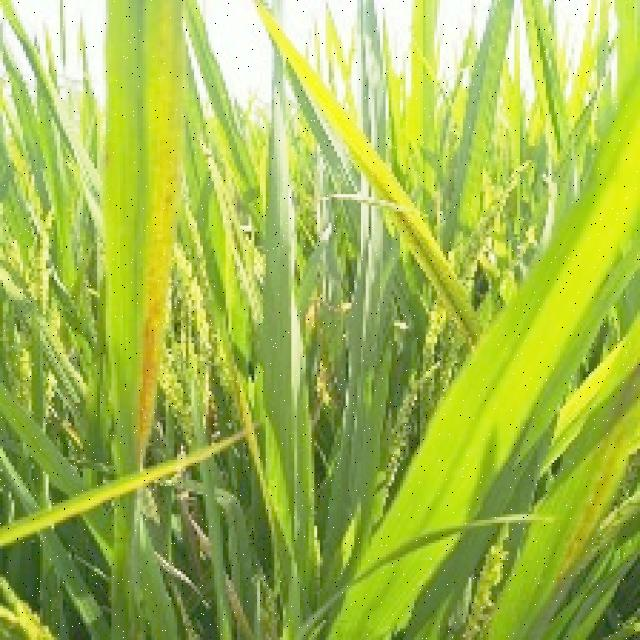-: (260, 295, 554, 640)
